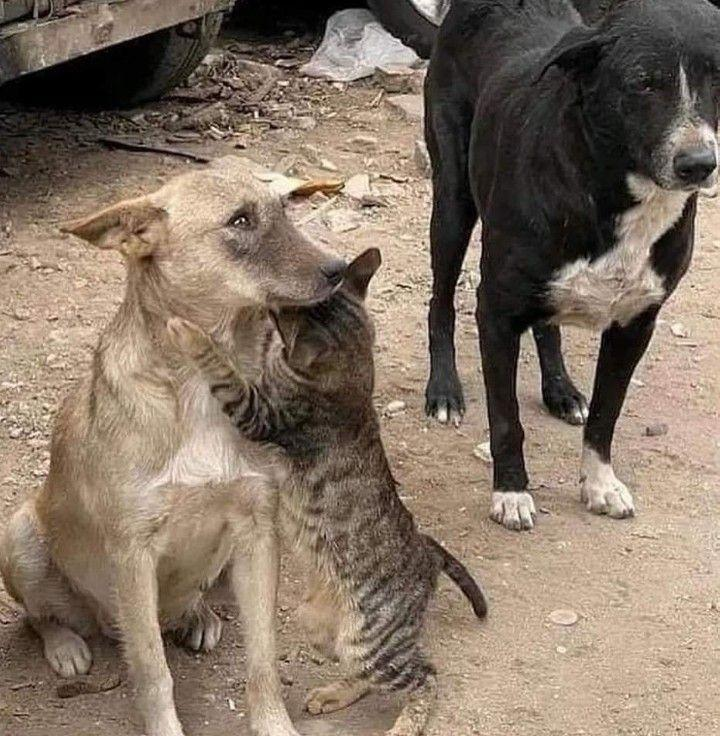kedo: (159, 240, 499, 733)
